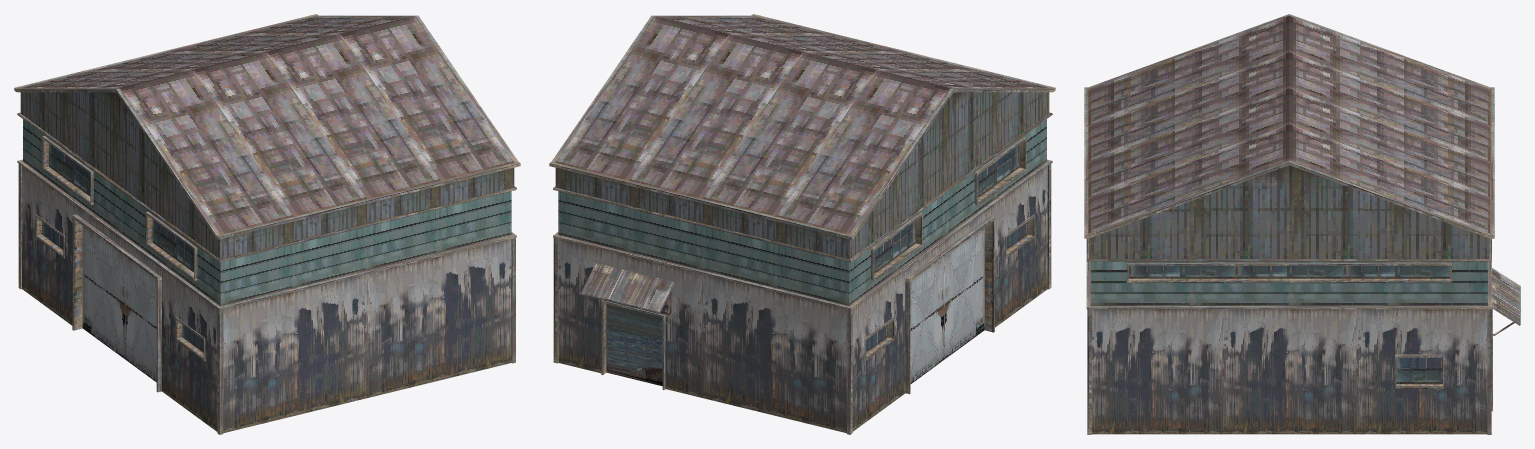
File: deck.glb
3 renders of one model, left to right at view 1: azimuth 30°, elevation 25°; view 2: azimuth 150°, elevation 25°; view 3: azimuth 270°, elevation 25°, orthographic.
Size of the model in its own units: 10.86 by 9.36 by 13.5.
1 material, 1 textured.
